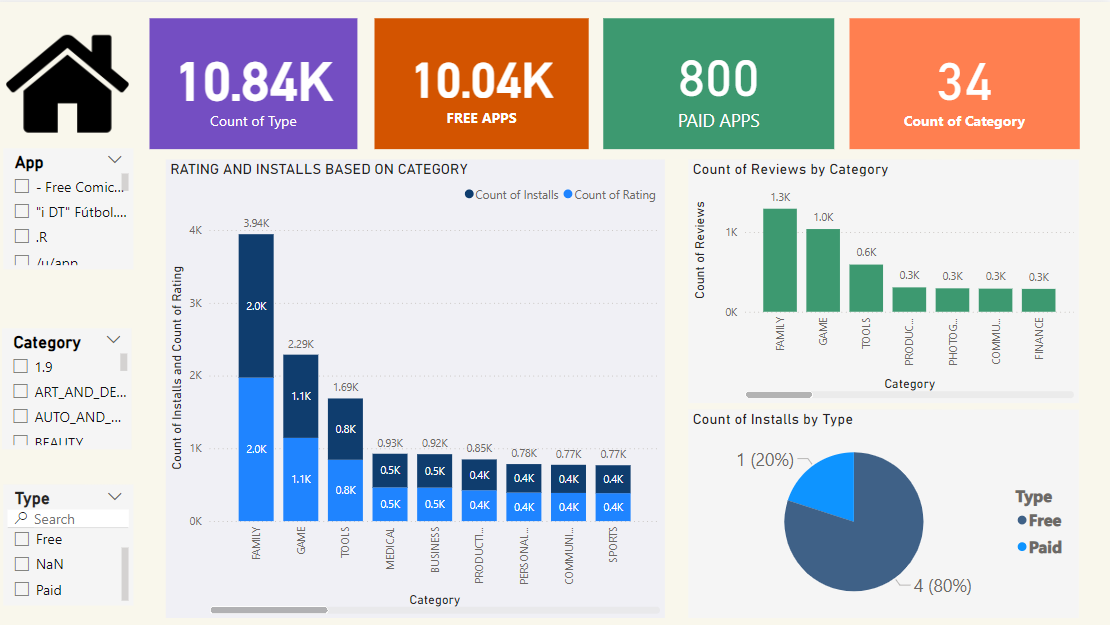

Layout of this report page (visuals, bound fields, positions):
{"tool":"powerbi","page":{"name":"Page 1","canvas":[1280,720],"ordinal":0},"visuals":[{"type":"card","fields":{"Values":["CountNonNull(googleplaystore.Type)"]},"box":[179.8,18.1,237.7,149.6],"z":0},{"type":"card","fields":{"Values":["CountNonNull(googleplaystore.Type)"]},"box":[436.7,18.1,244.9,149.6],"z":1000},{"type":"card","fields":{"Values":["CountNonNull(googleplaystore.Type)"]},"box":[698.5,18.1,264.2,149.6],"z":2000},{"type":"card","fields":{"Values":["Count(googleplaystore.Category)"]},"box":[979.6,18.1,263,149.6],"z":3000},{"type":"columnChart","title":"RATING AND INSTALLS BASED ON CATEGORY","fields":{"Category":["googleplaystore.Category"],"Y":["CountNonNull(googleplaystore.Installs)","CountNonNull(googleplaystore.Rating)"]},"box":[198,180,570,524],"z":4000},{"type":"clusteredColumnChart","fields":{"Category":["googleplaystore.Category"],"Y":["Count(googleplaystore.Reviews)"]},"box":[796,180,446,278],"z":5000},{"type":"pieChart","fields":{"Category":["googleplaystore.Type"],"Y":["CountNonNull(googleplaystore.Installs)"]},"box":[796,466,446,238],"z":6000},{"type":"slicer","fields":{"Values":["googleplaystore.App"]},"box":[12.9,167.1,148.6,138.6],"z":7000},{"type":"slicer","fields":{"Values":["googleplaystore.Category"]},"box":[12.1,372.8,148.4,138.7],"z":8000},{"type":"slicer","fields":{"Values":["googleplaystore.Type"]},"box":[12.9,551.4,148.6,138.6],"z":9000},{"type":"image","box":[10.9,18.1,149.6,149.6],"z":9001}]}

Visuals, with their boxes on the page's 1280x720 design canvas (x1, y1, x2, y2). These are canvas units, not pixel positions in the 1110x625 screenshot, which may show the page scaled, cropped or inside an application window:
card - CountNonNull(googleplaystore.Type): bbox=[180, 18, 418, 168]
card - CountNonNull(googleplaystore.Type): bbox=[437, 18, 682, 168]
card - CountNonNull(googleplaystore.Type): bbox=[698, 18, 963, 168]
card - Count(googleplaystore.Category): bbox=[980, 18, 1243, 168]
"RATING AND INSTALLS BASED ON CATEGORY" columnChart: bbox=[198, 180, 768, 704]
clusteredColumnChart - googleplaystore.Category x Count(googleplaystore.Reviews): bbox=[796, 180, 1242, 458]
pieChart - googleplaystore.Type x CountNonNull(googleplaystore.Installs): bbox=[796, 466, 1242, 704]
slicer - googleplaystore.App: bbox=[13, 167, 162, 306]
slicer - googleplaystore.Category: bbox=[12, 373, 160, 512]
slicer - googleplaystore.Type: bbox=[13, 551, 162, 690]
image: bbox=[11, 18, 160, 168]
